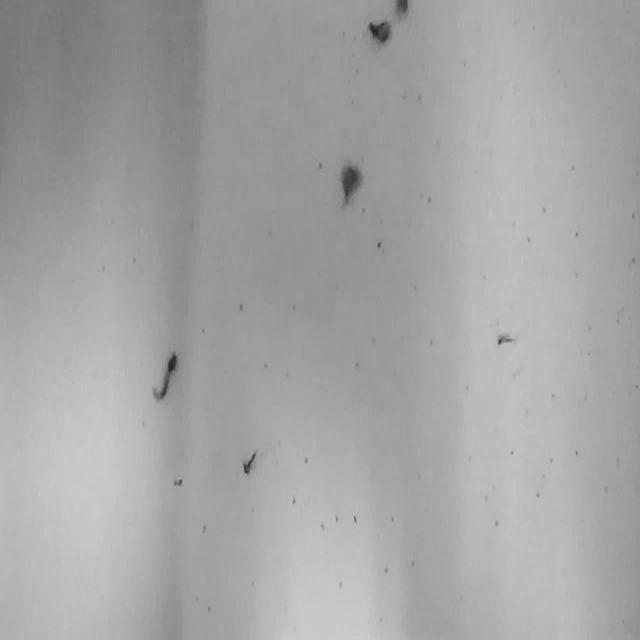larvas: (152, 349, 178, 401), (339, 164, 362, 204), (367, 19, 392, 42), (242, 446, 258, 476), (394, 0, 408, 16), (497, 334, 515, 343)
